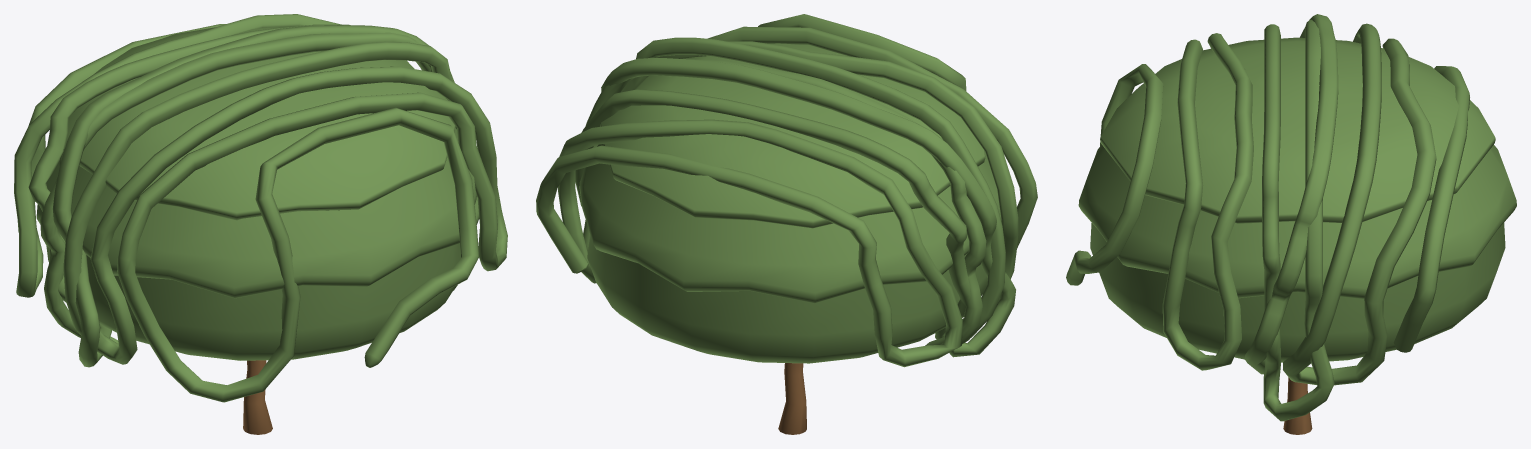
File: Emaranhado de vinhas.fbx
The picture shows the model from 3 angles, left to right: view 1: azimuth 30°, elevation 25°; view 2: azimuth 150°, elevation 25°; view 3: azimuth 270°, elevation 25°; orthographic projection. The views are drawn at different scales.
Visible parts, largest first — view 1: Emaranhado_de_vinhas_MESH, Vinhas_MESH1, Vinhas_MESH2, tronco_MESH; view 2: Emaranhado_de_vinhas_MESH, Vinhas_MESH2, Vinhas_MESH1, tronco_MESH; view 3: Emaranhado_de_vinhas_MESH, Vinhas_MESH1, Vinhas_MESH2, tronco_MESH.
Boxes of the visible parts, x1,y1,x2,y2 form: Emaranhado_de_vinhas_MESH: (36,27,476,360); Vinhas_MESH1: (40,32,507,402); Vinhas_MESH2: (14,14,479,367); tronco_MESH: (243,360,272,434); Emaranhado_de_vinhas_MESH: (579,43,1001,363); Vinhas_MESH2: (536,58,1015,367); Vinhas_MESH1: (583,14,1037,345); tronco_MESH: (778,363,806,434); Emaranhado_de_vinhas_MESH: (1078,37,1516,362); Vinhas_MESH1: (1066,19,1334,421); Vinhas_MESH2: (1245,14,1469,385); tronco_MESH: (1283,377,1312,434).
Size of the model in its own units: 106 by 91.37 by 102.
